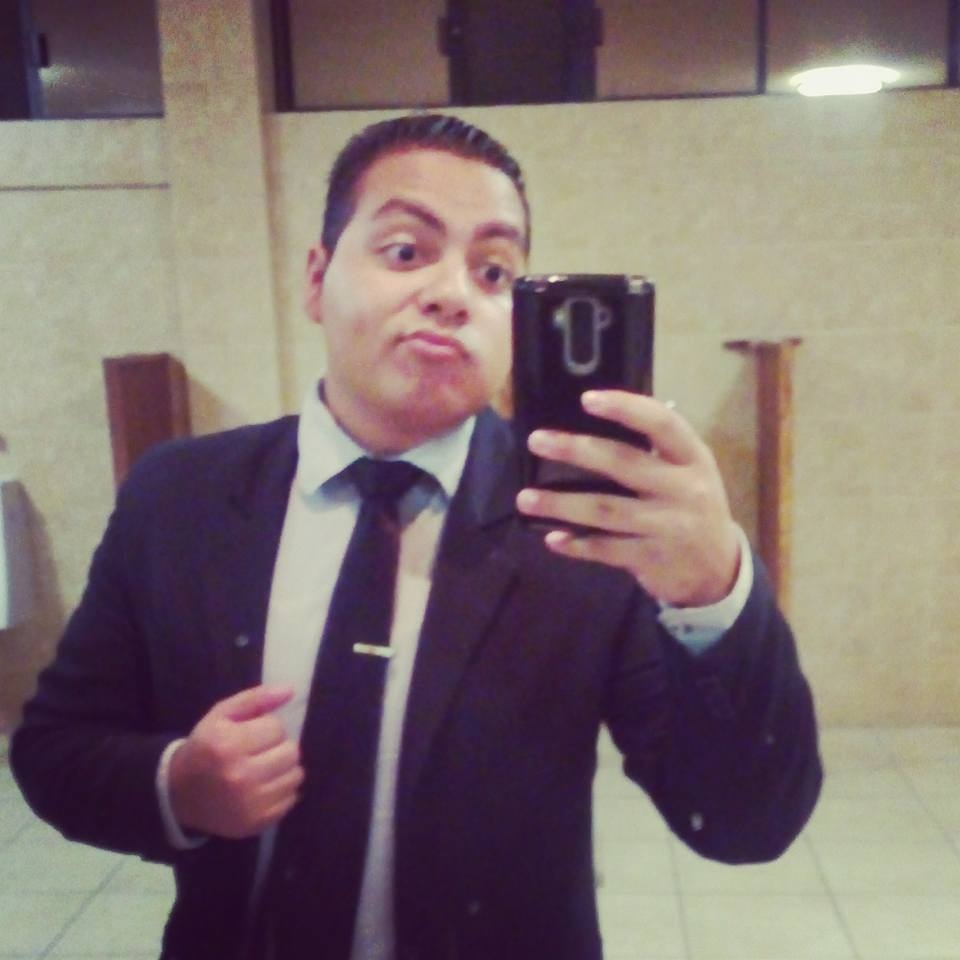Yoshi: (161, 111, 782, 733)
